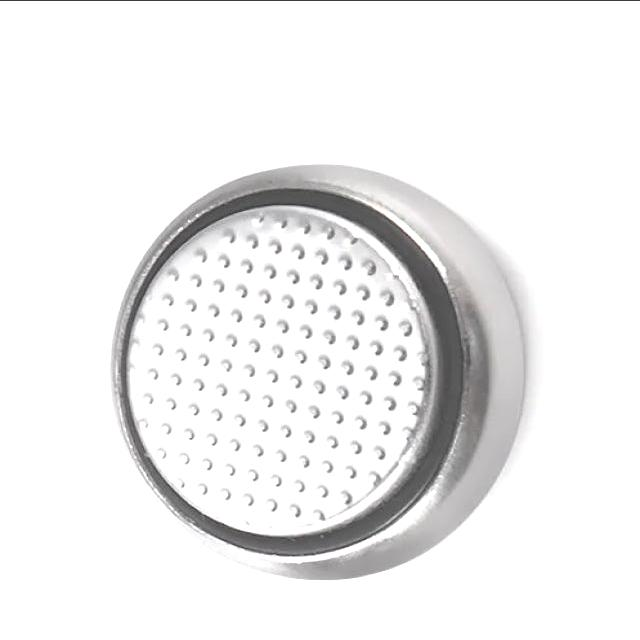COIN: (107, 163, 526, 582)
